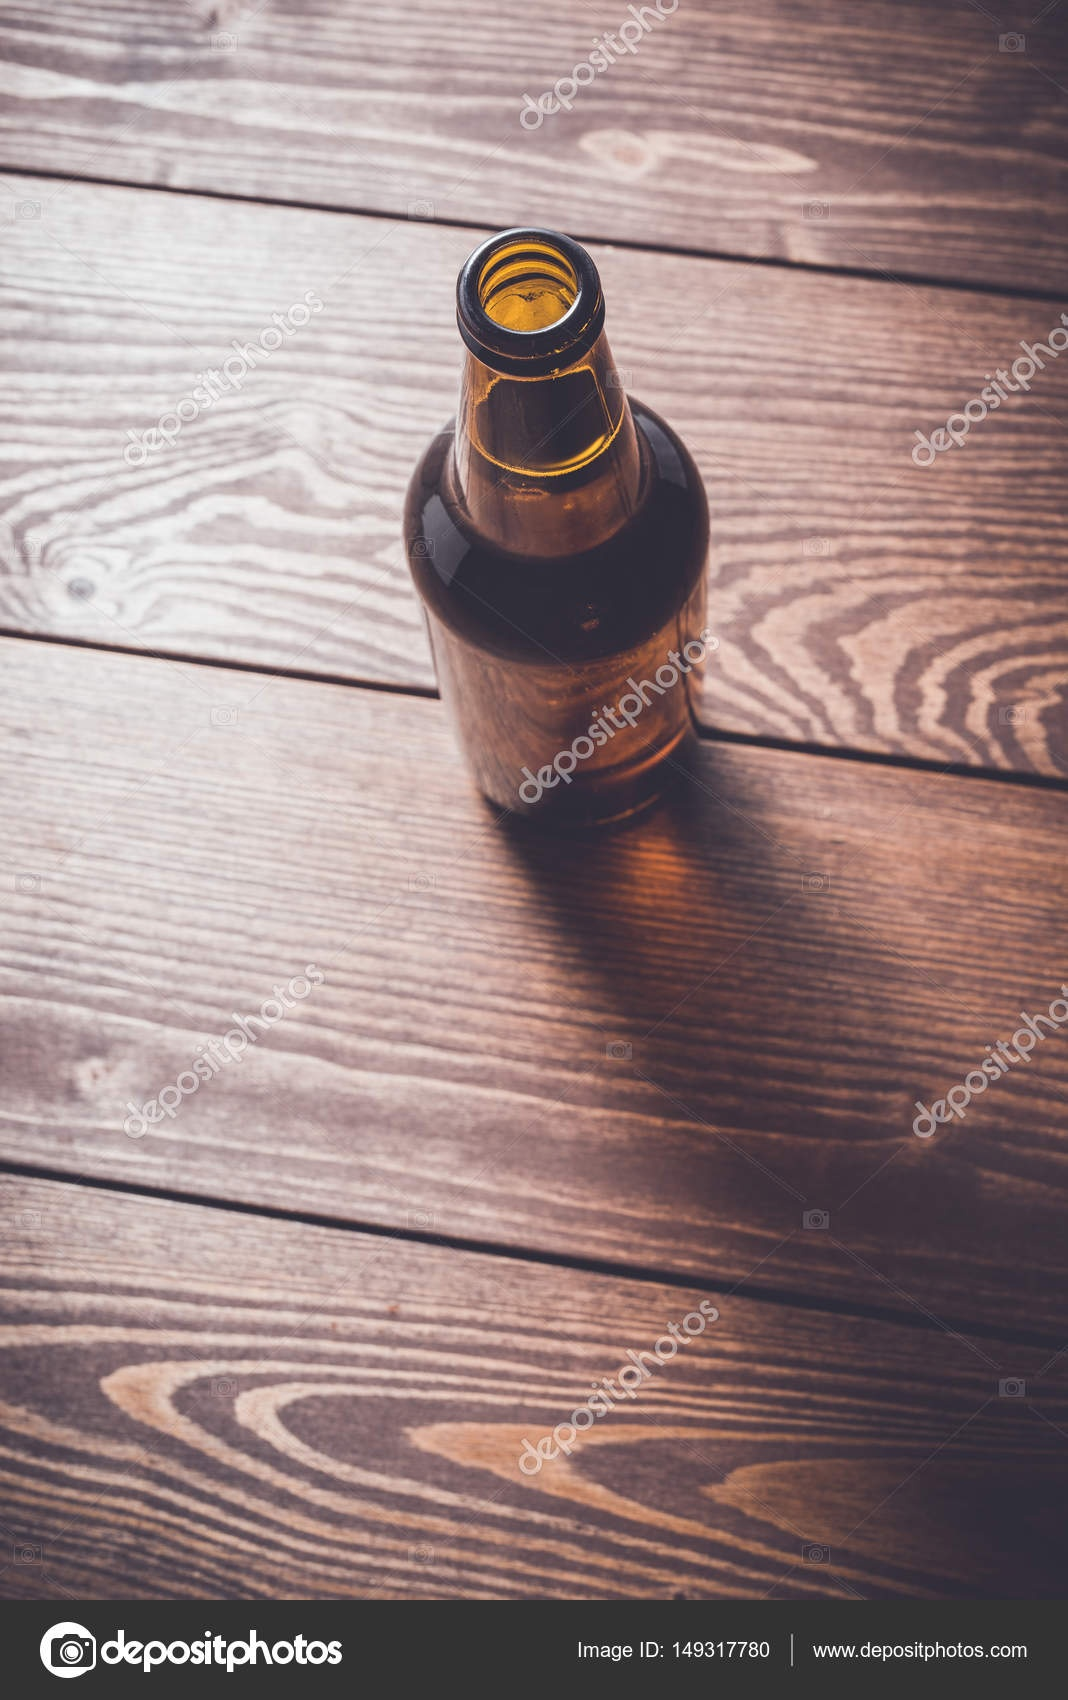beerBottle: (404, 221, 701, 850)
